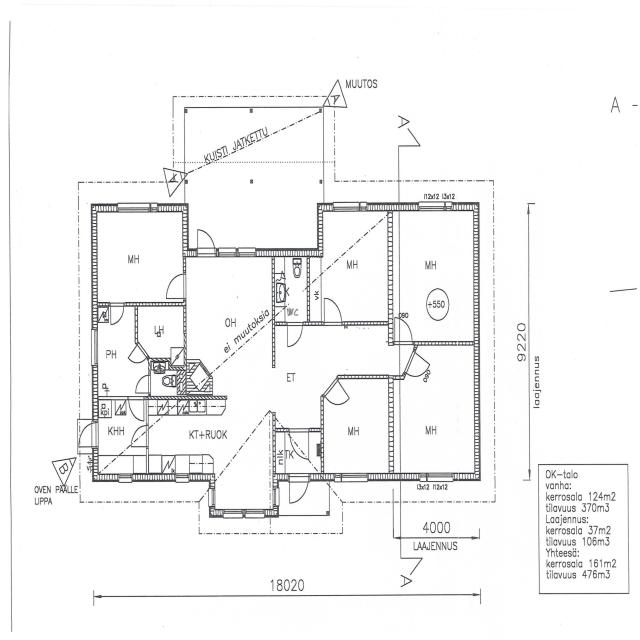door: (287, 427, 311, 461), (288, 472, 310, 506), (322, 293, 344, 326), (164, 269, 187, 300), (397, 315, 415, 353), (126, 393, 148, 423), (196, 225, 217, 255), (77, 420, 97, 449), (286, 320, 304, 350), (132, 370, 152, 396), (109, 300, 126, 327)
window: (324, 381, 346, 406), (115, 200, 154, 214), (338, 470, 370, 484), (332, 199, 364, 213), (240, 506, 268, 522), (89, 324, 99, 367), (426, 470, 456, 483), (416, 200, 446, 213), (220, 506, 246, 521), (233, 244, 258, 258), (217, 244, 240, 258), (115, 474, 136, 484), (272, 486, 279, 509)
zone: (185, 252, 272, 398), (392, 340, 478, 478), (392, 211, 478, 344), (148, 398, 272, 476), (93, 209, 185, 304), (319, 208, 391, 323), (322, 378, 392, 475), (93, 307, 140, 399), (95, 395, 148, 475), (136, 303, 186, 369), (274, 253, 320, 324), (152, 368, 179, 402)
